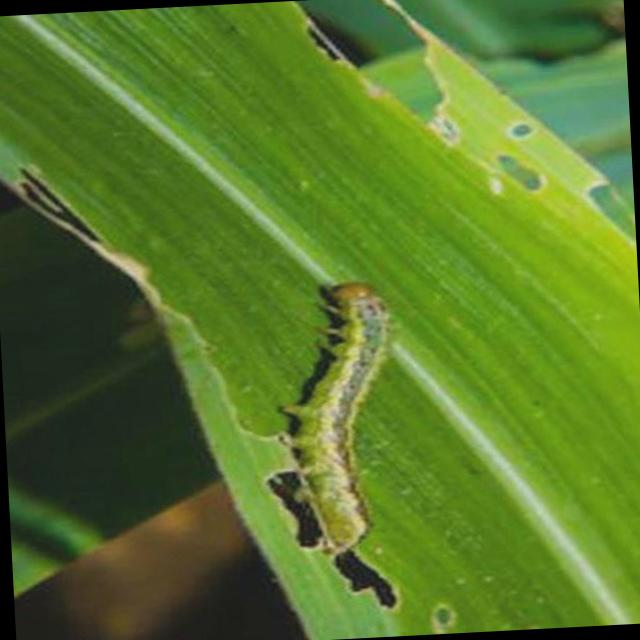pest: (298, 274, 407, 547)
